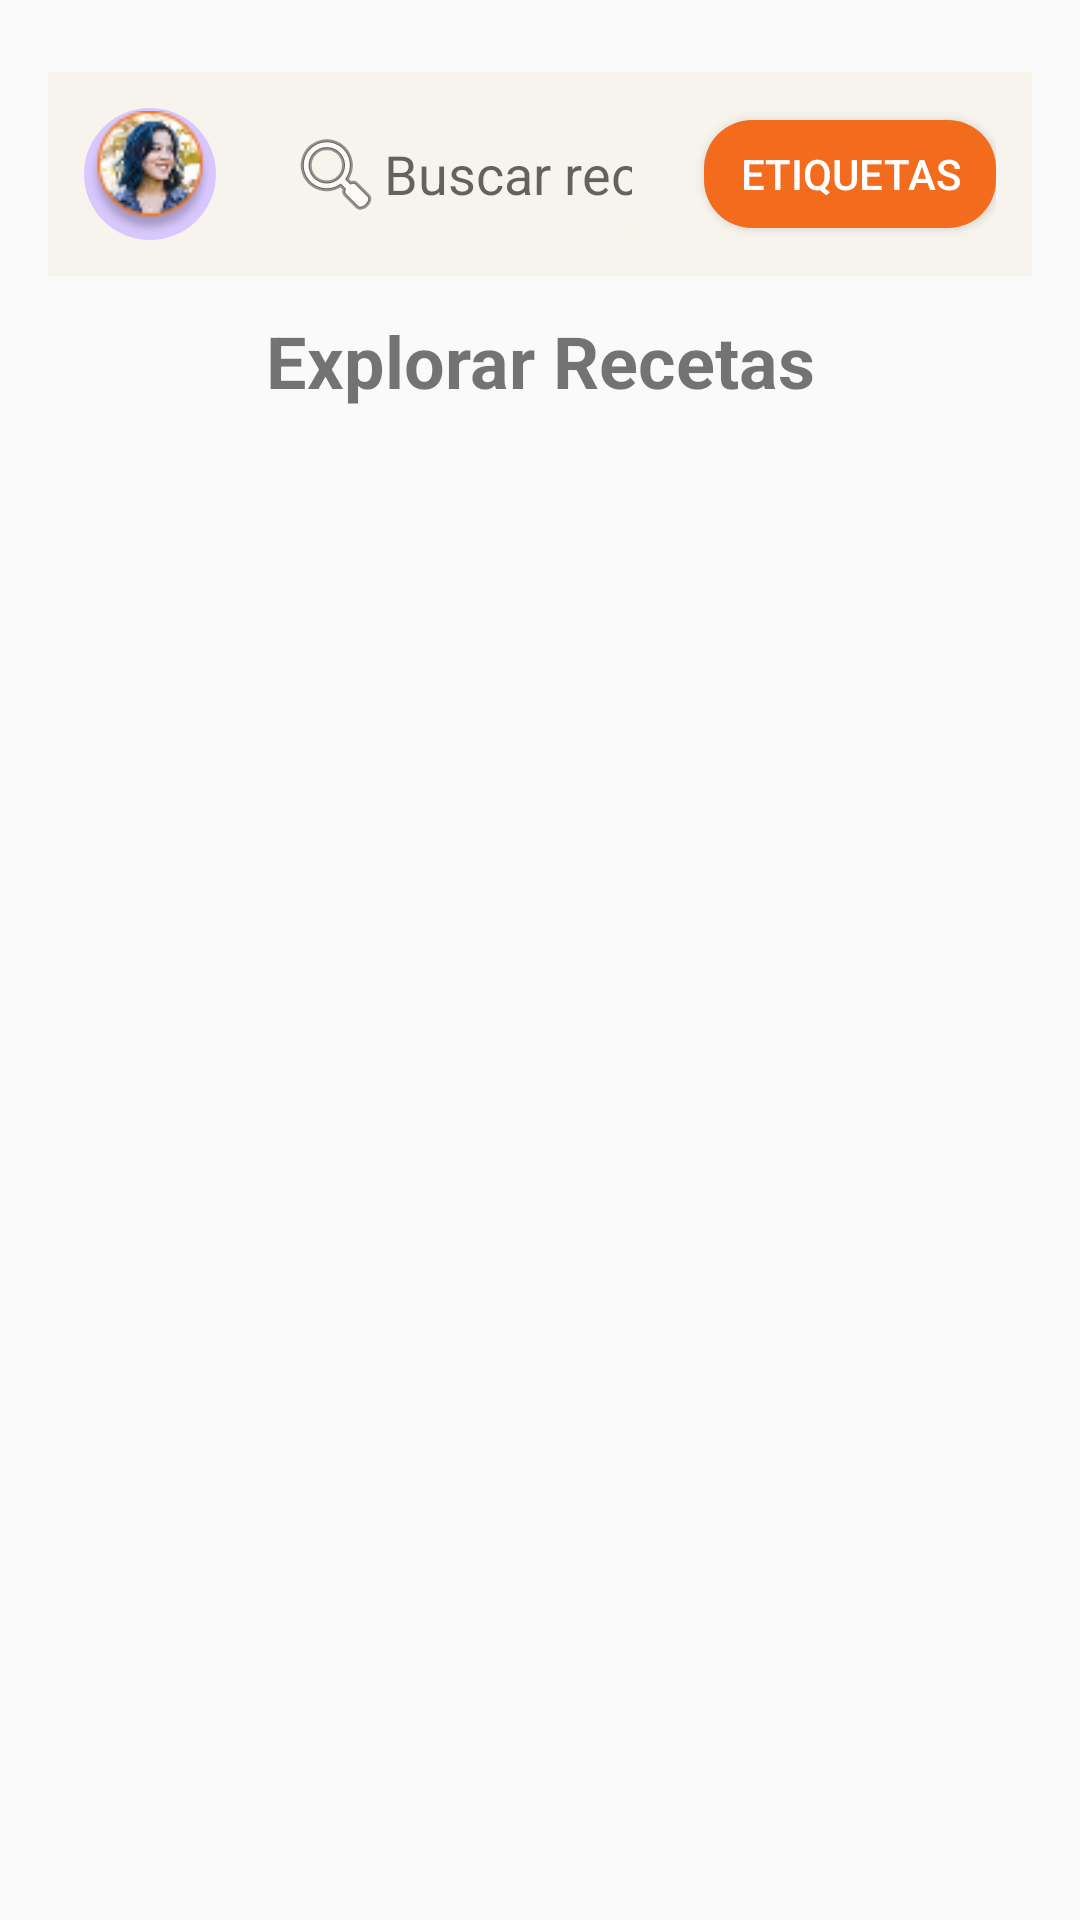

Icon bounding boxes for this 1080w x 1920h phone screenshot, format (x1, y1, x2, y2):
Imagen de perfil: (84, 108, 216, 240)
